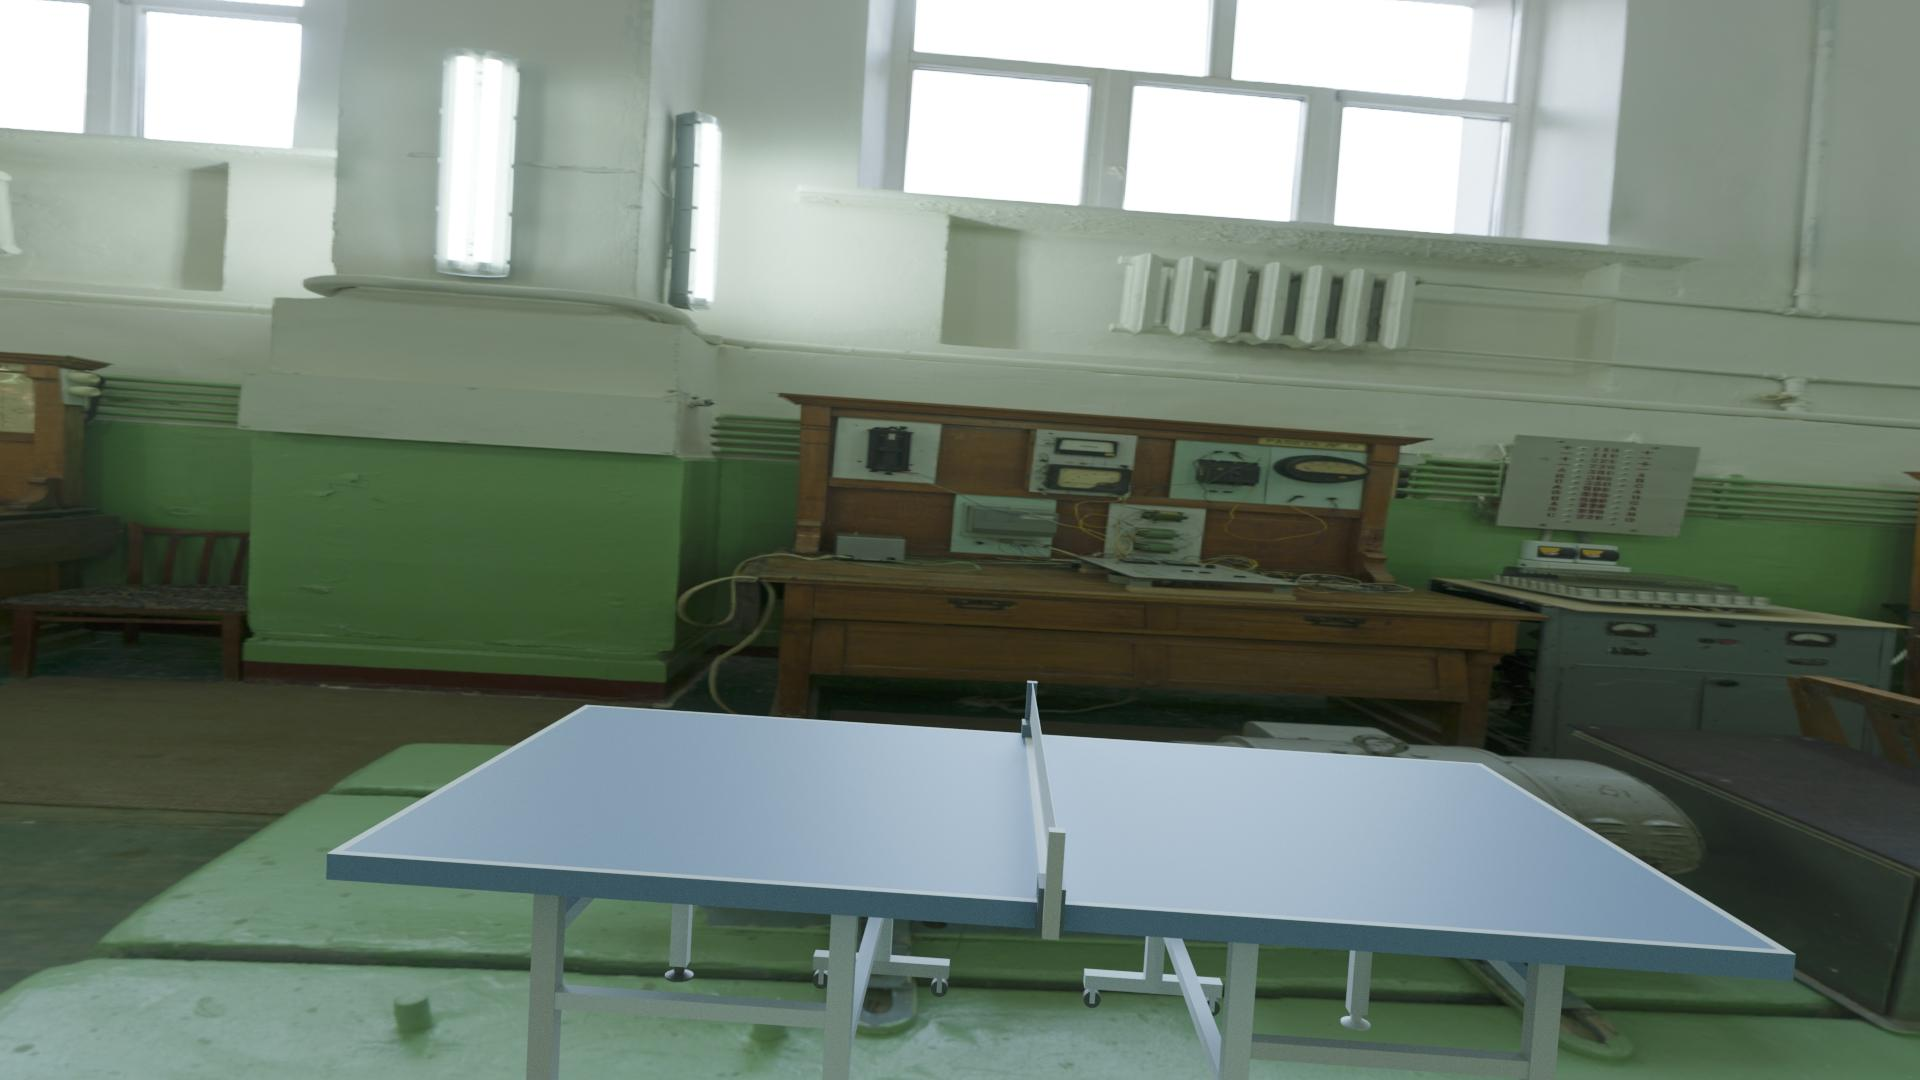table: (343, 707, 1778, 949)
